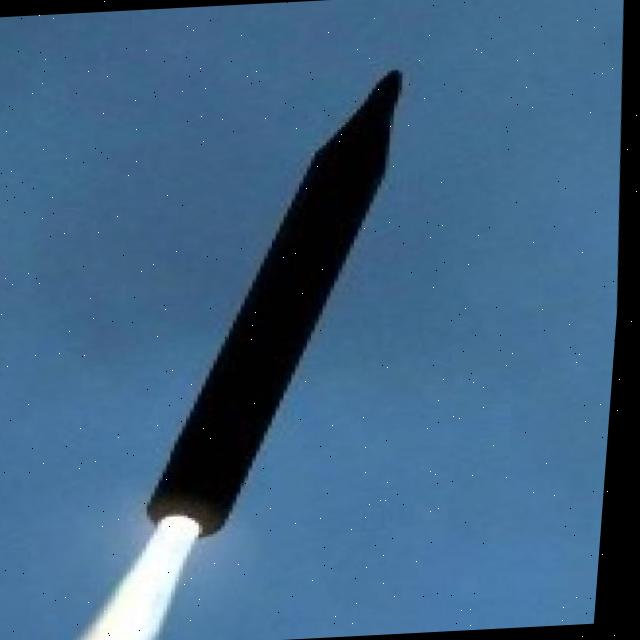missile: (126, 66, 435, 549)
